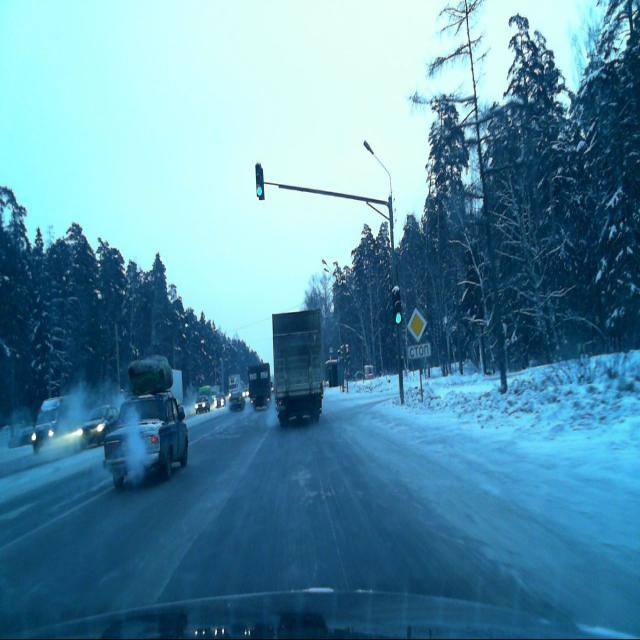object: (418, 363, 424, 405)
road sign: (406, 308, 426, 343), (406, 344, 430, 359)
